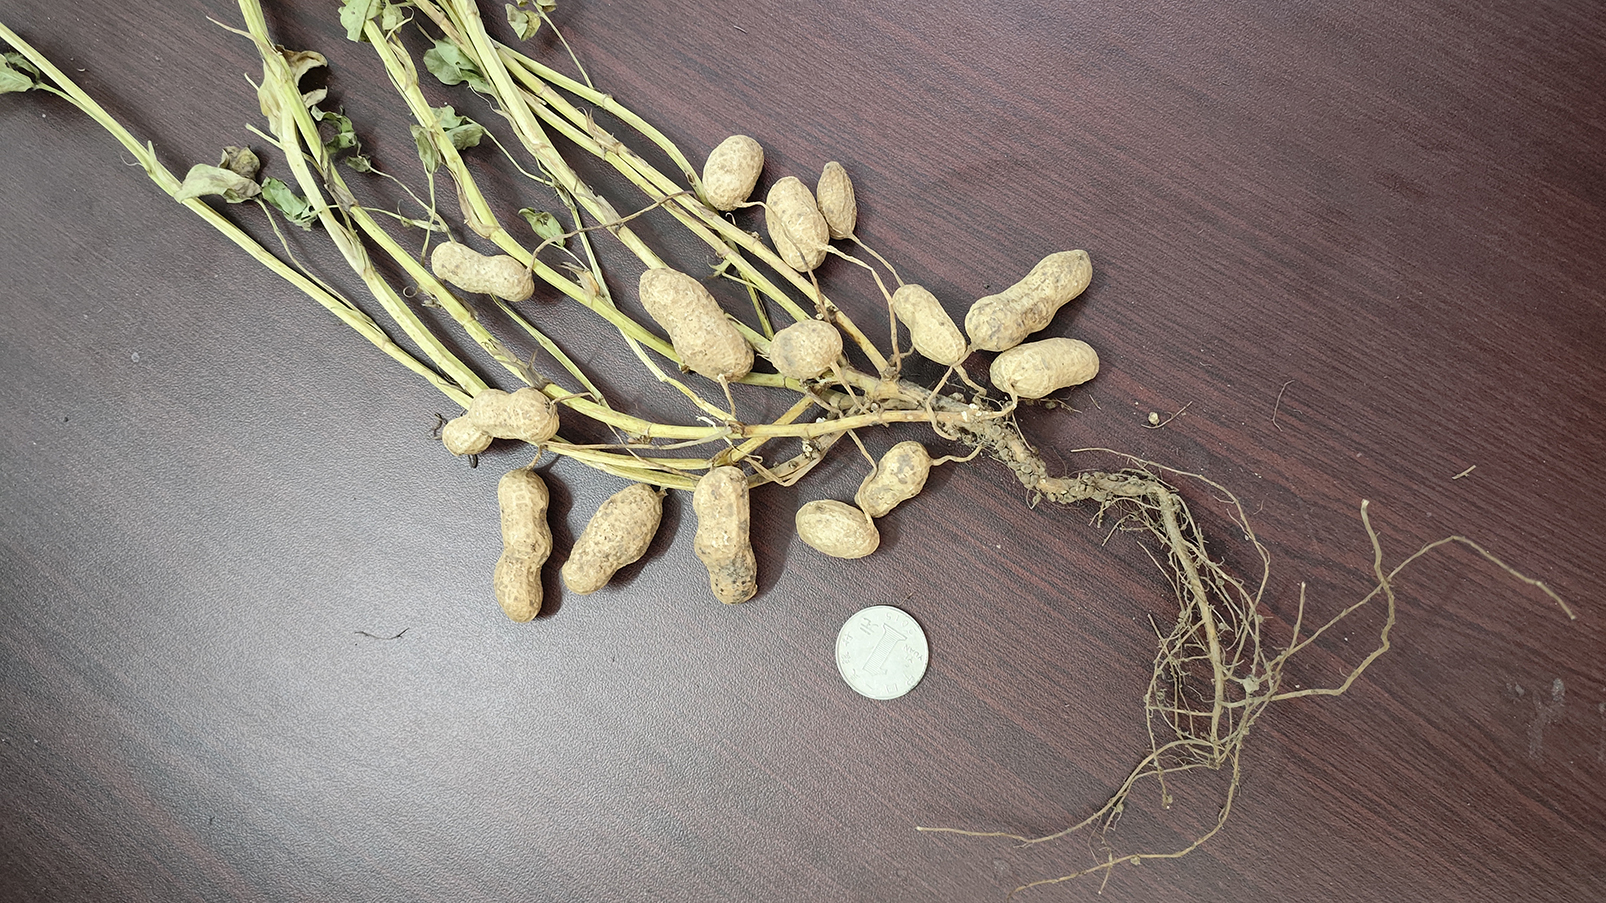h: (966, 247, 1096, 352), (641, 266, 753, 380), (563, 483, 664, 596), (690, 466, 758, 606), (494, 471, 552, 620), (445, 386, 559, 455), (988, 338, 1099, 398), (764, 173, 829, 269), (429, 241, 534, 300), (891, 284, 965, 365), (794, 499, 882, 562), (855, 439, 930, 513), (702, 133, 765, 208), (769, 322, 843, 375), (816, 159, 857, 237)
